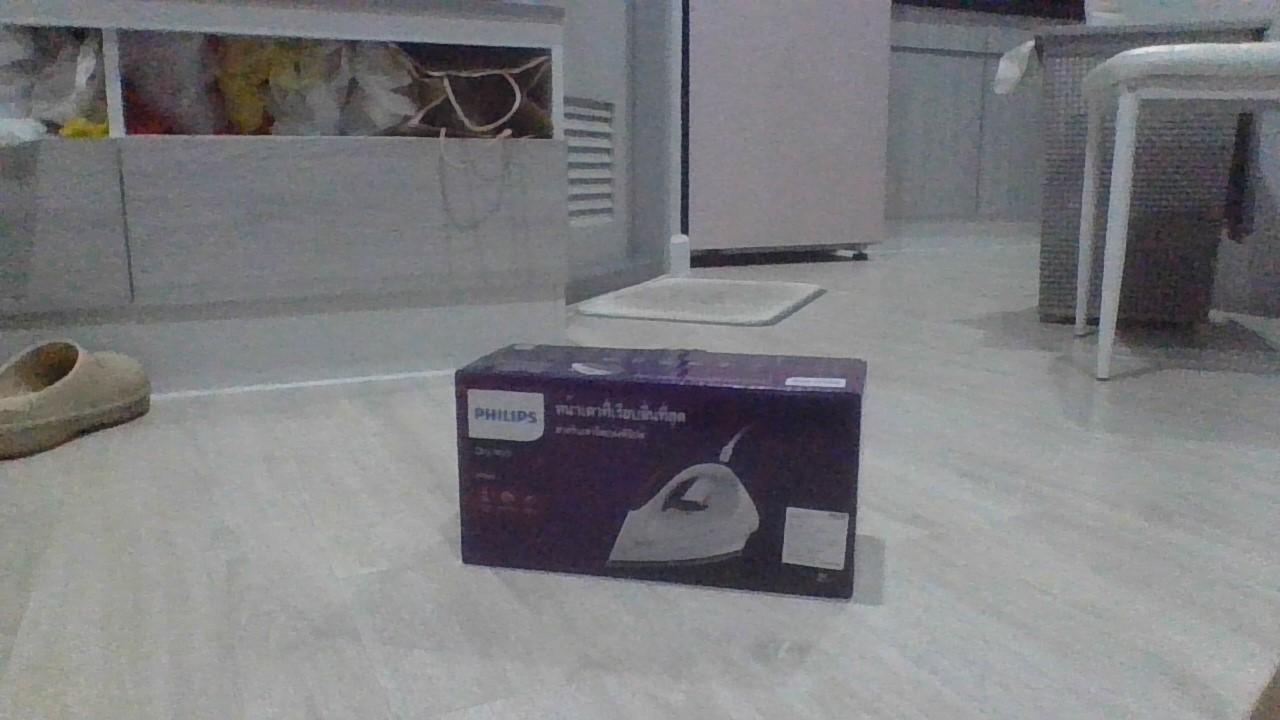IRON: (450, 338, 871, 605)
